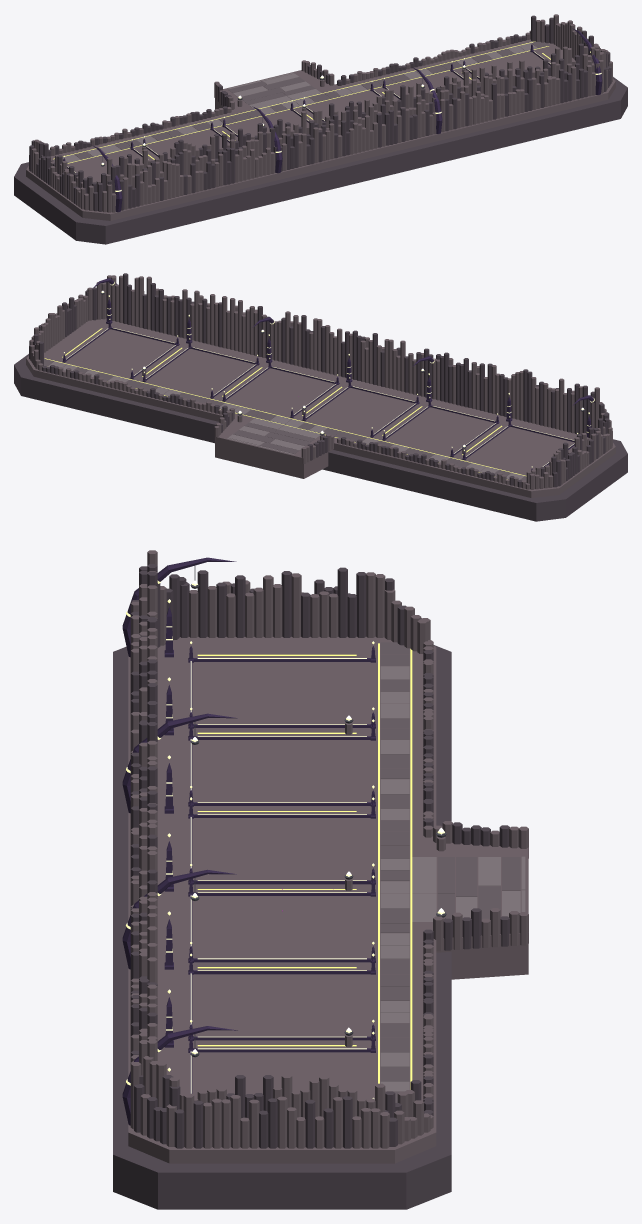
Rendered from volcano_terrace.fbx.
3 renders of one model, top to bottom at view 1: azimuth 30°, elevation 25°; view 2: azimuth 150°, elevation 25°; view 3: azimuth 270°, elevation 25°, orthographic. The views are drawn at different scales.
Parts seen in each view (by area): view 1: Rock_volcano_terrace, RockDark_volcano_terrace, BasaltDark_volcano_terrace, Basalt_volcano_terrace, Obsidian_volcano_terrace, Lava_volcano_terrace; view 2: Rock_volcano_terrace, RockDark_volcano_terrace, Obsidian_volcano_terrace, BasaltDark_volcano_terrace, Basalt_volcano_terrace, Ember_volcano_terrace, Lava_volcano_terrace; view 3: Rock_volcano_terrace, RockDark_volcano_terrace, Obsidian_volcano_terrace, BasaltDark_volcano_terrace, Basalt_volcano_terrace, Lava_volcano_terrace, Ember_volcano_terrace.
Boxes of the visible parts, x1,y1,x2,y2 form: Rock_volcano_terrace: (26,14,615,220); RockDark_volcano_terrace: (14,15,627,244); BasaltDark_volcano_terrace: (53,41,549,161); Basalt_volcano_terrace: (62,43,537,162); Obsidian_volcano_terrace: (63,28,602,212); Lava_volcano_terrace: (53,41,550,163); Rock_volcano_terrace: (26,275,615,497); RockDark_volcano_terrace: (14,273,627,521); Obsidian_volcano_terrace: (62,278,594,470); BasaltDark_volcano_terrace: (44,358,526,480); Basalt_volcano_terrace: (47,361,524,479); Ember_volcano_terrace: (64,282,594,467); Lava_volcano_terrace: (44,328,526,479); Rock_volcano_terrace: (128,550,528,1163); RockDark_volcano_terrace: (113,564,509,1209); Obsidian_volcano_terrace: (122,557,375,1125); BasaltDark_volcano_terrace: (380,642,520,1102); Basalt_volcano_terrace: (380,666,525,1102); Lava_volcano_terrace: (197,643,412,1089); Ember_volcano_terrace: (126,580,444,1098).
Size of the model in its own units: 497 by 65.81 by 162.
